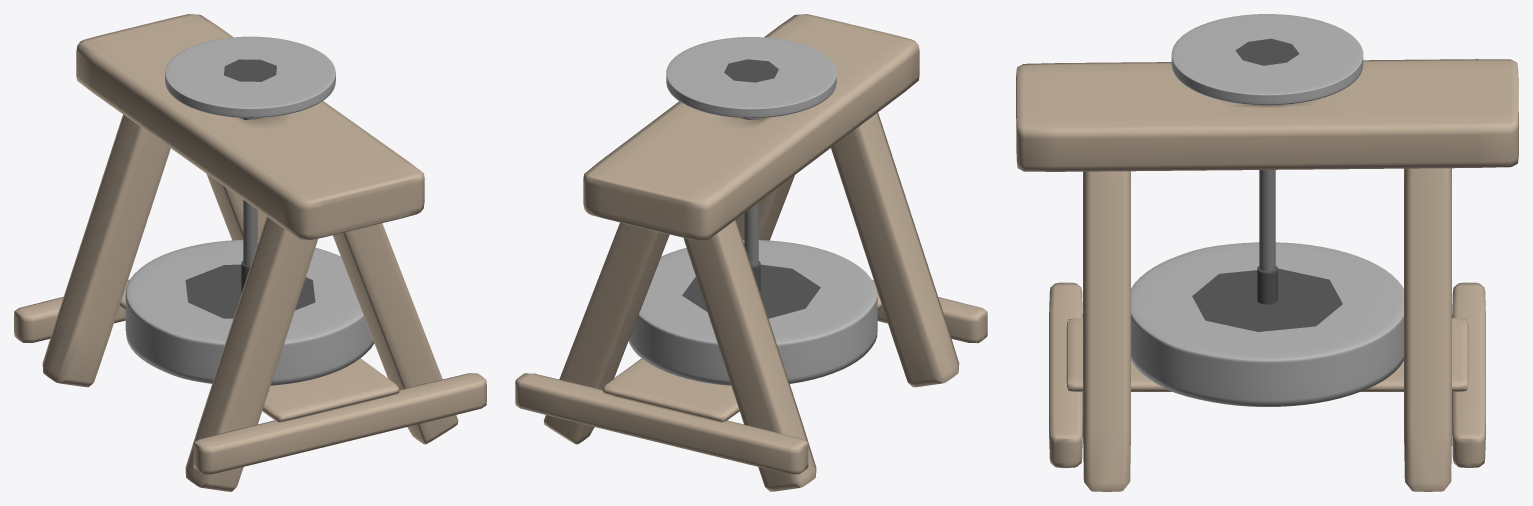
The model's file is PottersWheel.fbx.
The picture shows the model from 3 angles, left to right: view 1: azimuth 30°, elevation 25°; view 2: azimuth 150°, elevation 25°; view 3: azimuth 270°, elevation 25°; orthographic projection. The views are drawn at different scales.
Visible parts, largest first — view 1: AFrame, Cylinder, TopTable, BottomFrame, Cube; view 2: AFrame, Cylinder, TopTable, BottomFrame, Cube; view 3: Cylinder, TopTable, AFrame, BottomFrame, Cube.
Boxes of the visible parts, left/top/right/bottom form: AFrame: left=42, top=114, right=458, bottom=491; Cylinder: left=125, top=36, right=374, bottom=385; TopTable: left=76, top=14, right=424, bottom=239; BottomFrame: left=14, top=297, right=486, bottom=474; Cube: left=119, top=279, right=399, bottom=422; AFrame: left=543, top=112, right=959, bottom=491; Cylinder: left=628, top=37, right=877, bottom=385; TopTable: left=583, top=14, right=919, bottom=240; BottomFrame: left=515, top=297, right=987, bottom=474; Cube: left=602, top=280, right=882, bottom=422; Cylinder: left=1131, top=14, right=1403, bottom=406; TopTable: left=1016, top=59, right=1518, bottom=171; AFrame: left=1083, top=168, right=1451, bottom=491; BottomFrame: left=1049, top=282, right=1485, bottom=467; Cube: left=1066, top=318, right=1468, bottom=391.
Bounding box in the file's own units: 200 × 229 × 273.
